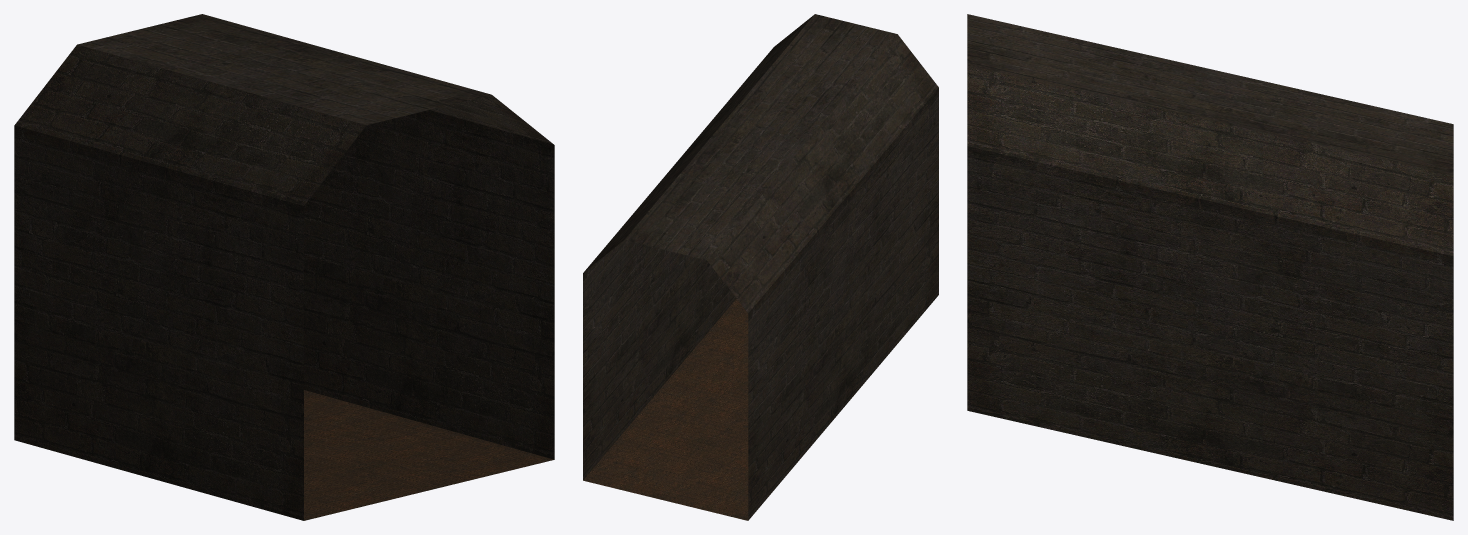
The model's file is tunnel_mp_1_straight_inclined.glb.
3 views of the same model, side by side, from view 1: azimuth 30°, elevation 25°; view 2: azimuth 150°, elevation 25°; view 3: azimuth 270°, elevation 25° (orthographic). The views are drawn at different scales.
Parts seen in each view (by area): view 1: tunnel_mp_1_straight_inclined; view 2: tunnel_mp_1_straight_inclined; view 3: tunnel_mp_1_straight_inclined.
Boxes of the visible parts, x1,y1,x2,y2 form: tunnel_mp_1_straight_inclined: (14,14,554,520); tunnel_mp_1_straight_inclined: (583,14,938,520); tunnel_mp_1_straight_inclined: (967,14,1453,520).
Size of the model in its own units: 2 by 3.9 by 4.
Materials: 2 (2 with a texture image).
